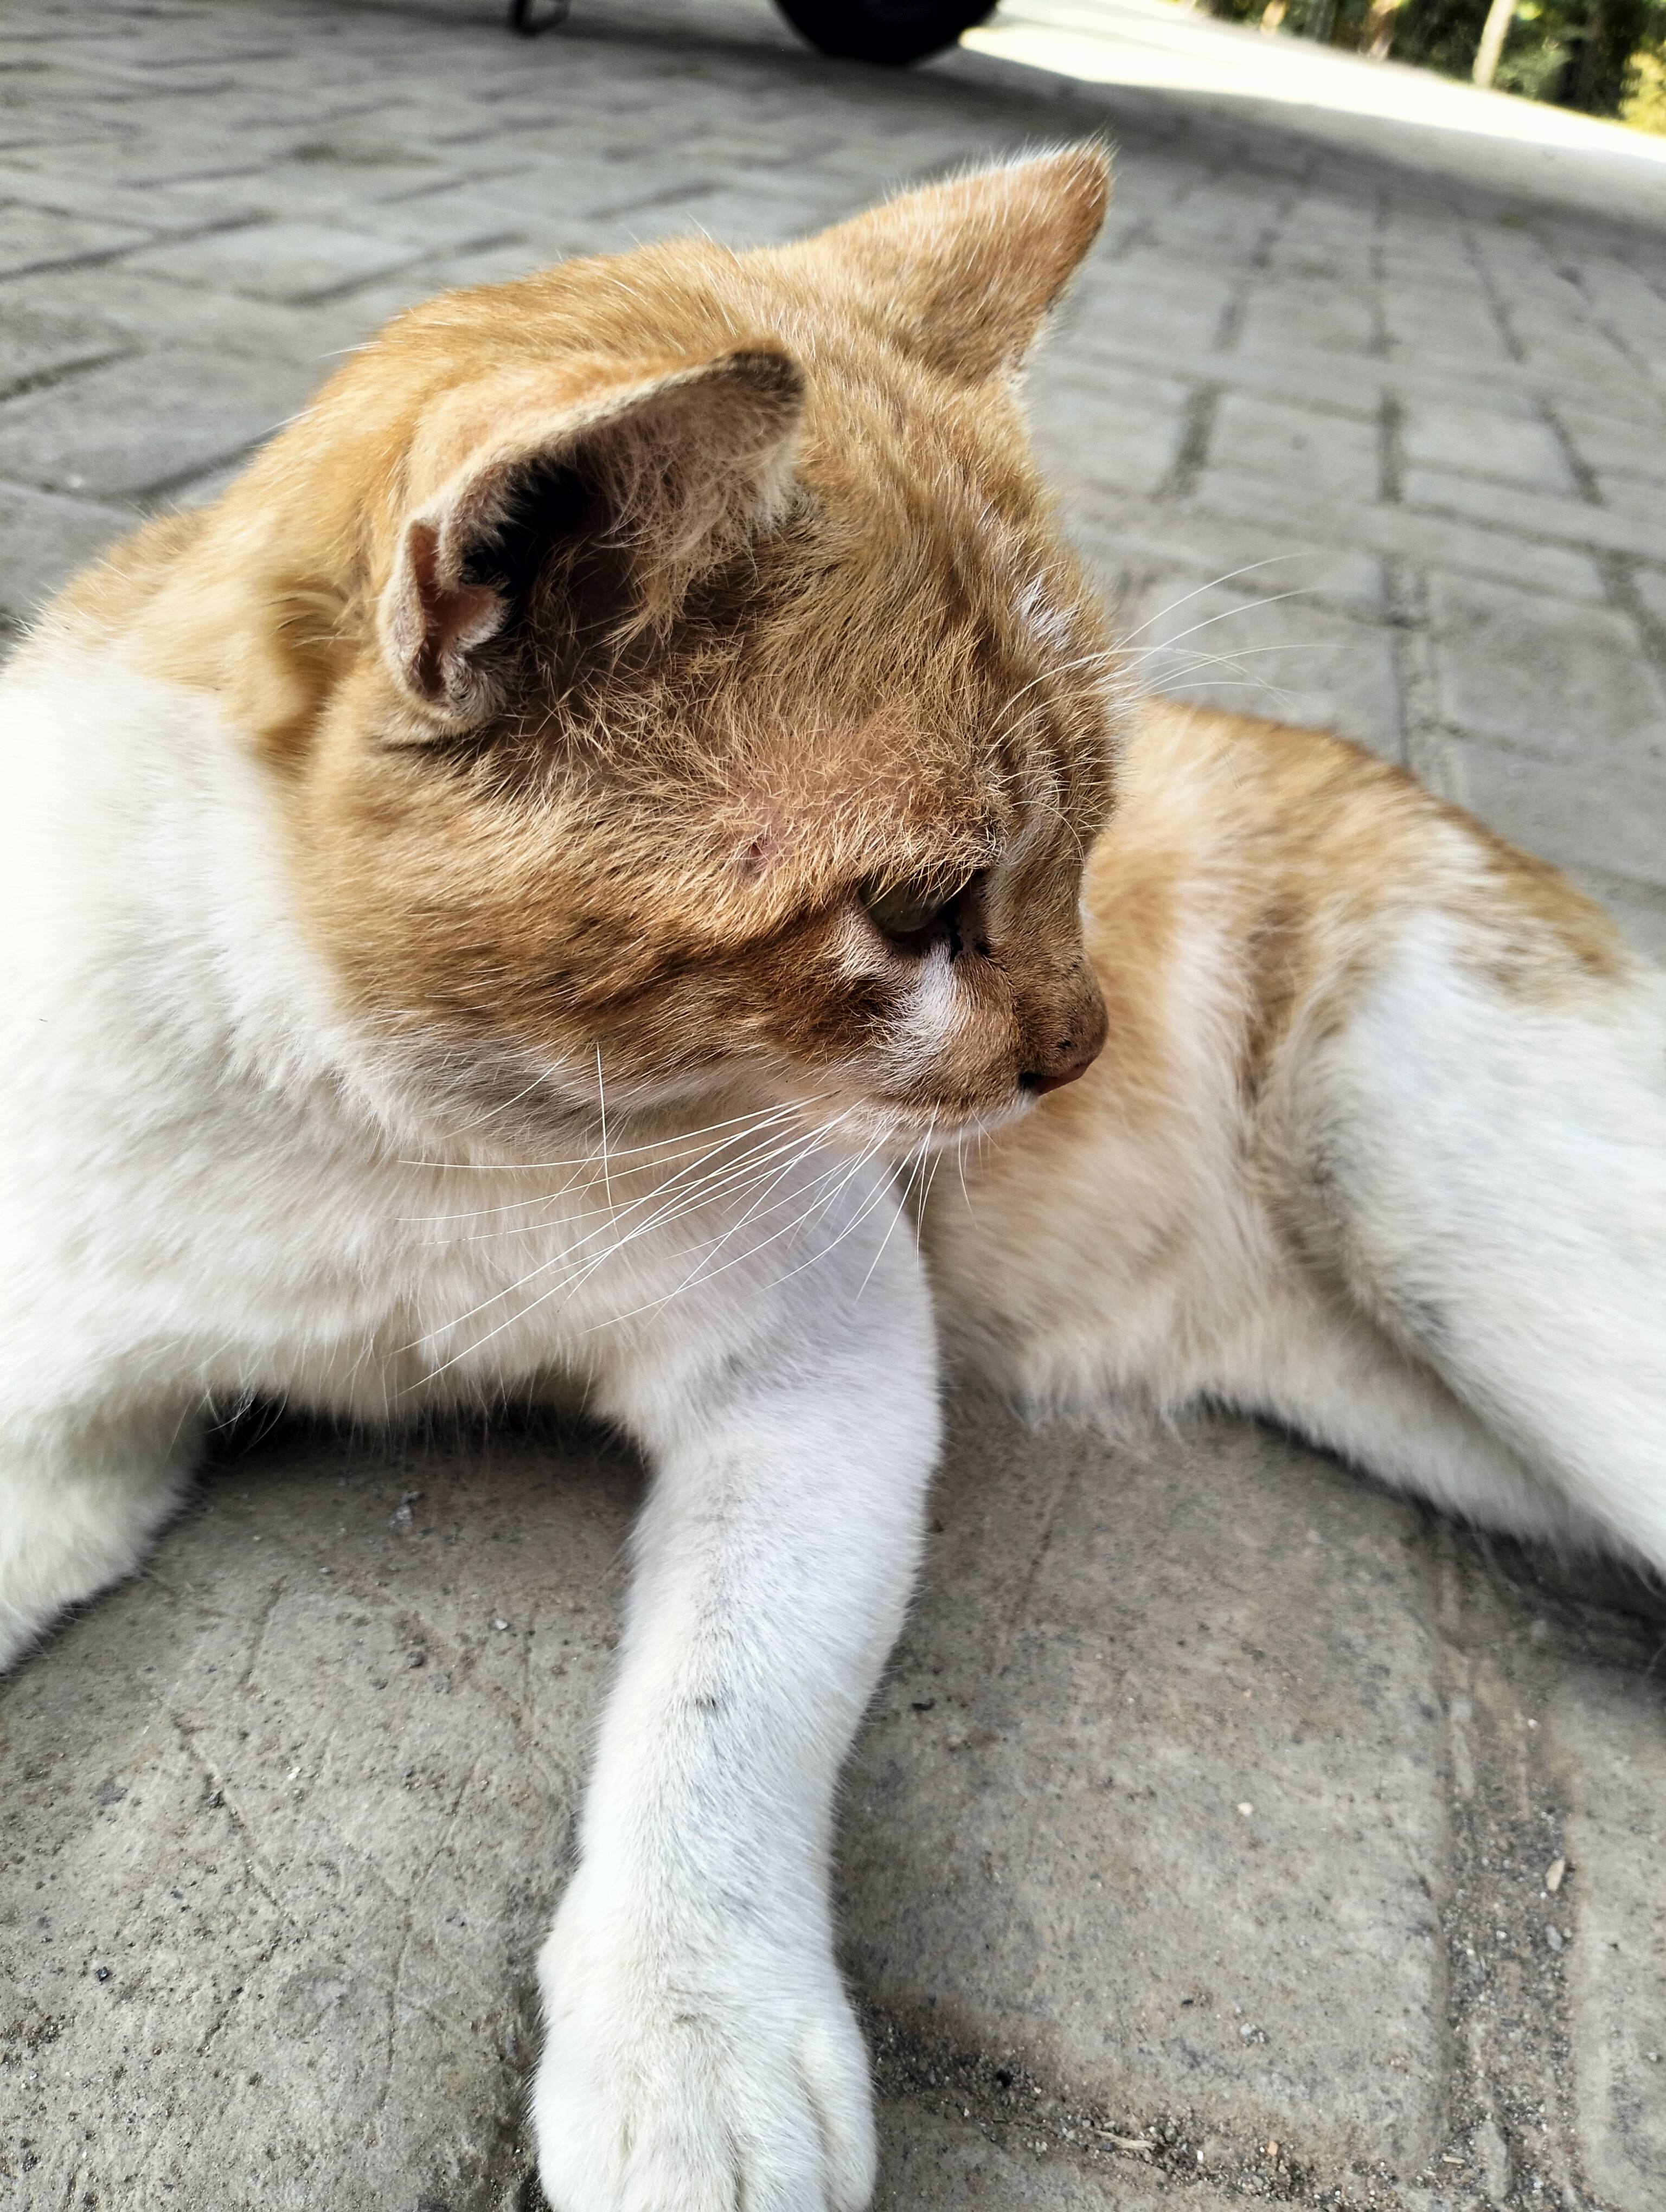oyen: (275, 132, 1285, 1297)
